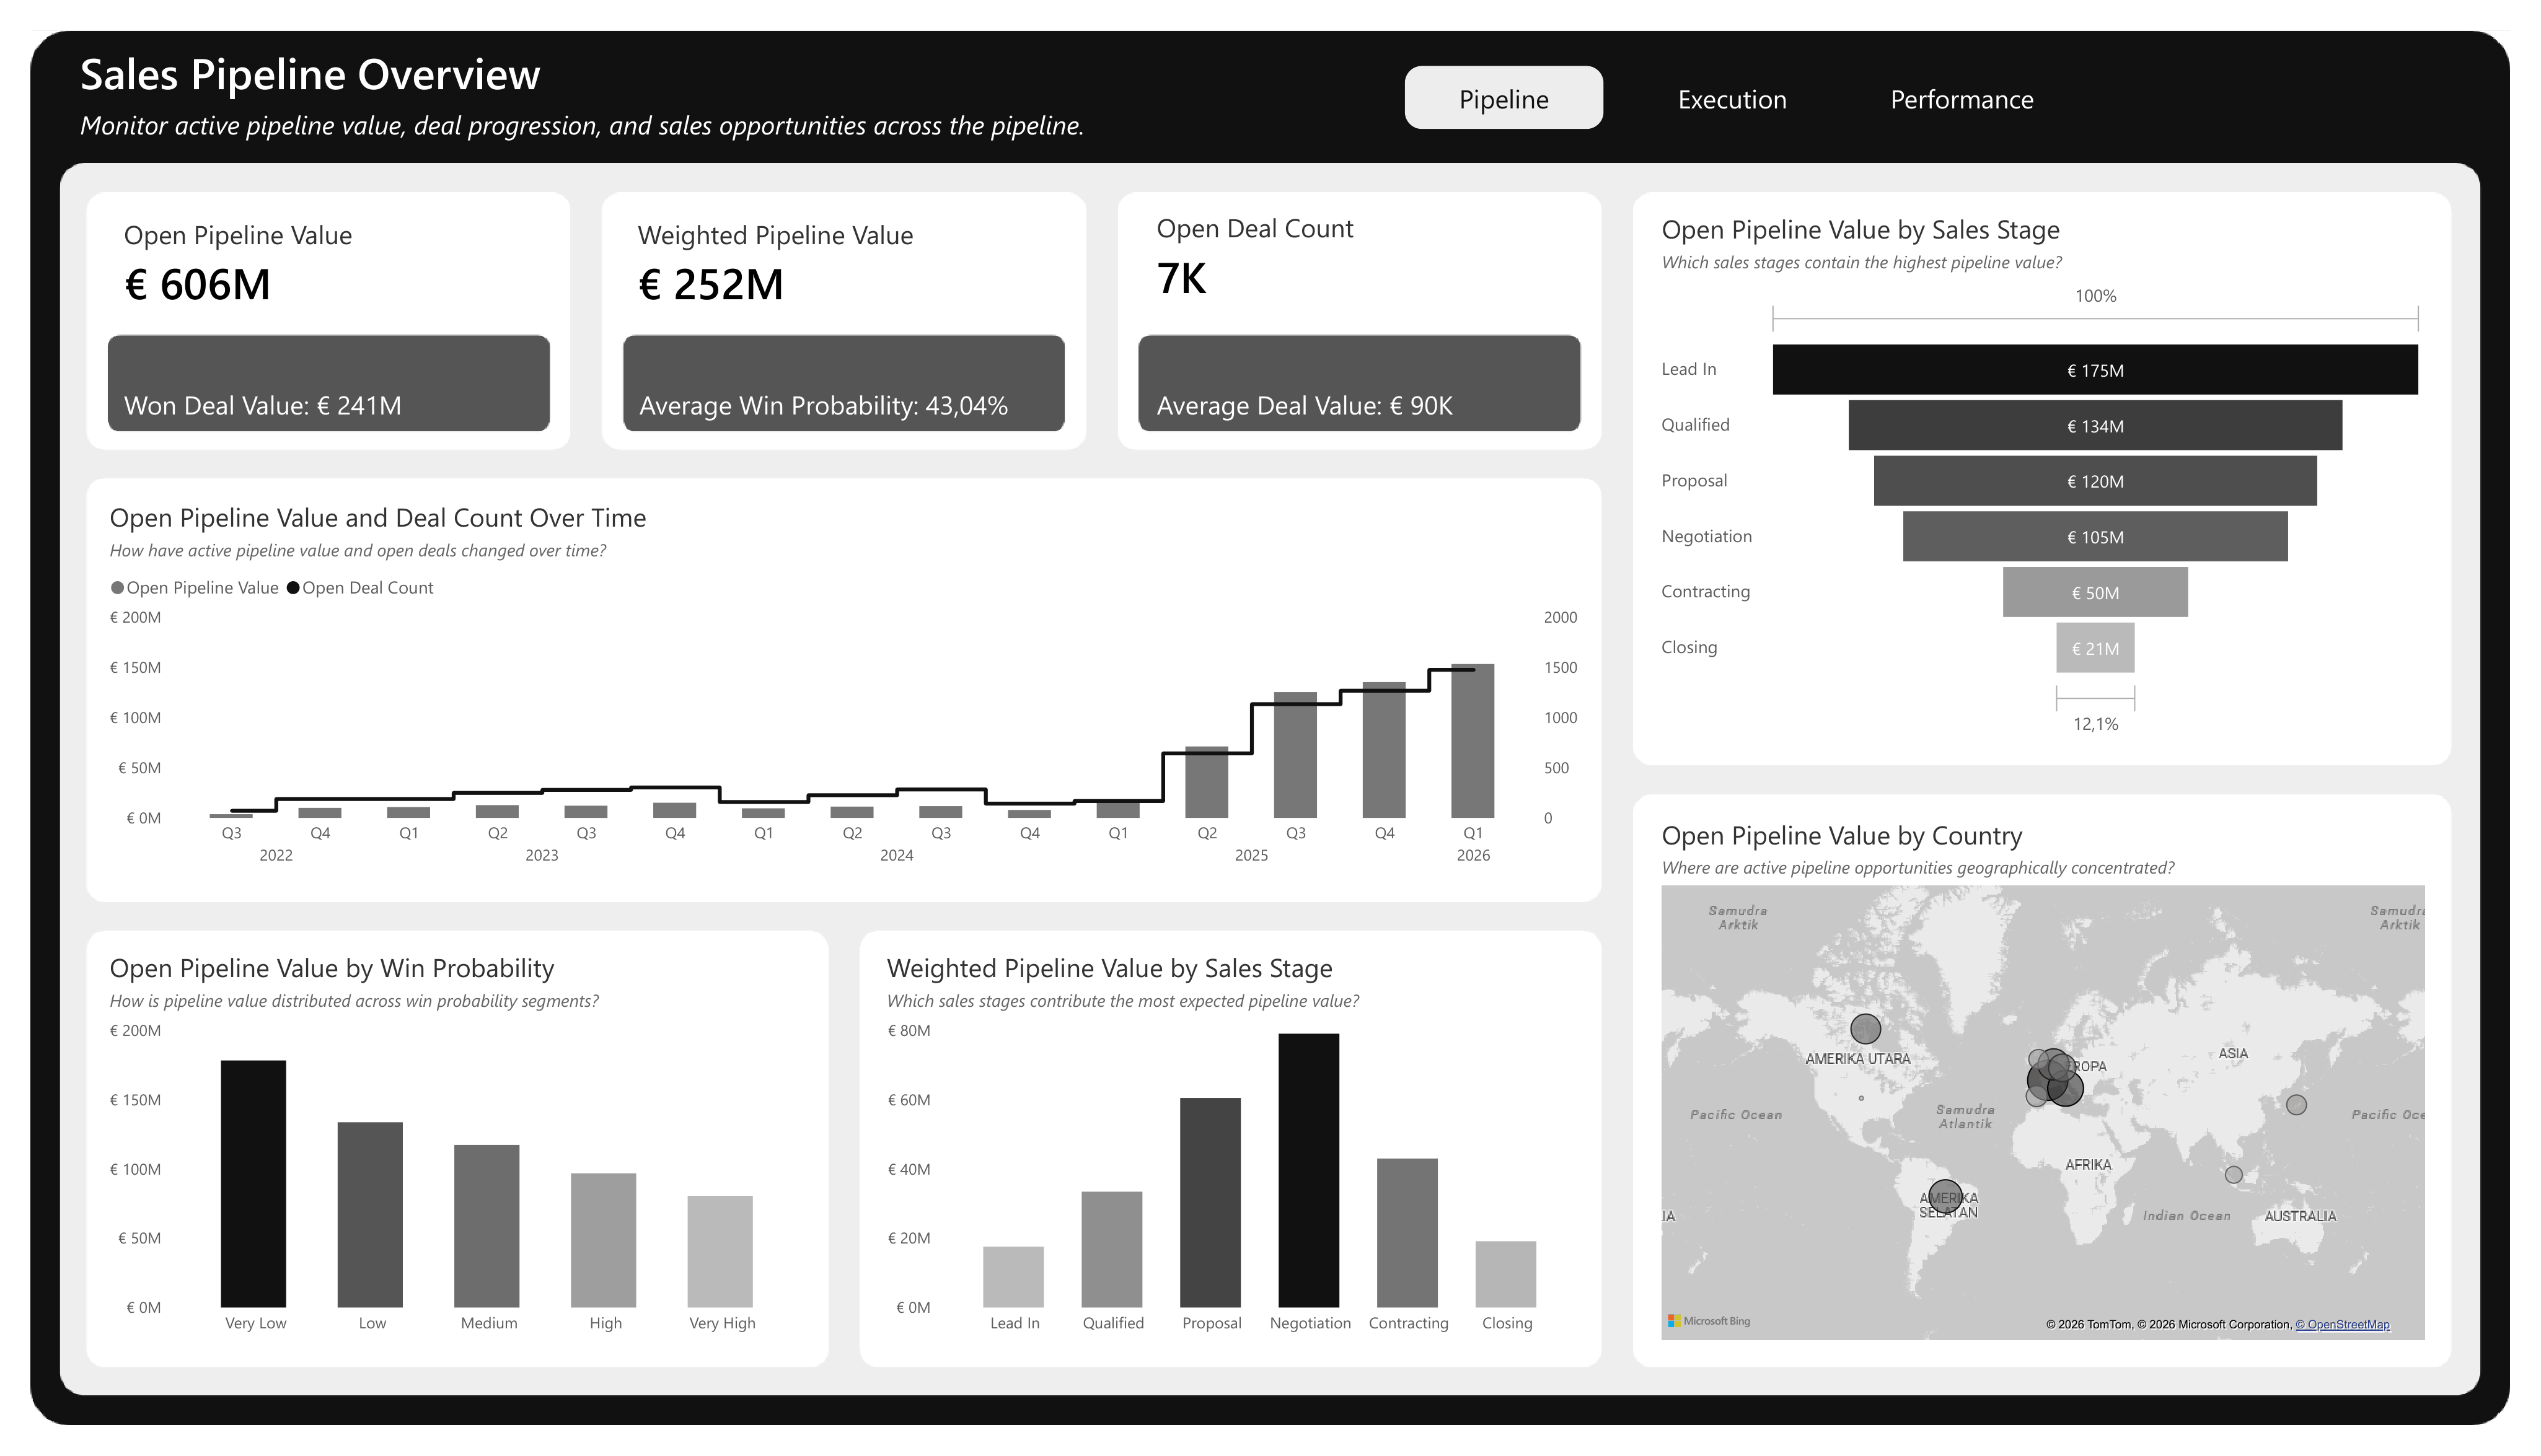

Layout of this report page (visuals, bound fields, positions):
{"tool":"powerbi","page":{"name":"Pipeline","canvas":[1920,1080],"ordinal":0},"visuals":[{"type":"cardVisual","fields":{"Data":[".Measures.Weighted Pipeline Value"]},"box":[441,115.1,376.6,181.5],"z":0},{"type":"cardVisual","fields":{"Data":[".Measures.Won Value Summary (Last Activity)"]},"box":[43.4,244.3,376.4,97.7],"z":1000},{"type":"cardVisual","fields":{"Data":[".Measures.Open Deal Count"]},"box":[842.6,111,378.5,182],"z":2000},{"type":"cardVisual","fields":{"Data":[".Measures.Open Pipeline Value (Last Activity)"]},"box":[42.9,115.1,376.6,181.5],"z":3000},{"type":"cardVisual","fields":{"Data":[".Measures.Avg Win Probability Summary (Last Activity)"]},"box":[441.6,244.3,376.4,97.7],"z":4000},{"type":"cardVisual","fields":{"Data":[".Measures.Avg Deal Value Summary (Last Activity)"]},"box":[843.3,244.3,378.2,97.7],"z":5000},{"type":"funnel","title":"Open Pipeline Value by Sales Stage","fields":{"Category":["FactDeals.StageName"],"Y":[".Measures.Open Pipeline Value (Last Activity)"]},"box":[1259.5,143,597.2,412.6],"z":6000},{"type":"clusteredColumnChart","title":"Weighted Pipeline Value by Sales Stage","fields":{"Category":["FactDeals.StageName"],"Y":[".Measures.Weighted Pipeline Value"]},"box":[658.2,710.8,545.3,308.4],"z":7000},{"type":"clusteredColumnChart","title":"Open Pipeline Value by Win Probability","fields":{"Category":["FactDeals.Win Probability Category"],"Y":[".Measures.Open Pipeline Value"]},"box":[56.4,710.8,547.2,308.4],"z":8000},{"type":"map","title":"Open Pipeline Value by Country","fields":{"Category":["DimCompany.Country"],"Size":[".Measures.Open Pipeline Value"]},"box":[1259.5,611.7,597.2,407.2],"z":9000},{"type":"lineClusteredColumnComboChart","title":"Open Pipeline Value and Deal Count Over Time","fields":{"Y":[".Measures.Open Pipeline Value (Last Activity)"],"Y2":[".Measures.Open Deal Count"],"Category":["DimDate.Year","DimDate.Quarter","DimDate.MonthName"]},"box":[56.1,361.9,1147.3,293.2],"z":10000},{"type":"textbox","title":"Sales Pipeline Overview","box":[32.6,9,774.5,77.8],"z":11000}]}

Visuals, with their boxes on the page's 1920x1080 design canvas (x1, y1, x2, y2). These are canvas units, not pixel positions in the 2541x1456 screenshot, which may show the page scaled, cropped or inside an application window:
cardVisual - .Measures.Weighted Pipeline Value: {"left": 441, "top": 115, "right": 818, "bottom": 297}
cardVisual - .Measures.Won Value Summary (Last Activity): {"left": 43, "top": 244, "right": 420, "bottom": 342}
cardVisual - .Measures.Open Deal Count: {"left": 843, "top": 111, "right": 1221, "bottom": 293}
cardVisual - .Measures.Open Pipeline Value (Last Activity): {"left": 43, "top": 115, "right": 420, "bottom": 297}
cardVisual - .Measures.Avg Win Probability Summary (Last Activity): {"left": 442, "top": 244, "right": 818, "bottom": 342}
cardVisual - .Measures.Avg Deal Value Summary (Last Activity): {"left": 843, "top": 244, "right": 1222, "bottom": 342}
"Open Pipeline Value by Sales Stage" funnel: {"left": 1260, "top": 143, "right": 1857, "bottom": 556}
"Weighted Pipeline Value by Sales Stage" clusteredColumnChart: {"left": 658, "top": 711, "right": 1204, "bottom": 1019}
"Open Pipeline Value by Win Probability" clusteredColumnChart: {"left": 56, "top": 711, "right": 604, "bottom": 1019}
"Open Pipeline Value by Country" map: {"left": 1260, "top": 612, "right": 1857, "bottom": 1019}
"Open Pipeline Value and Deal Count Over Time" lineClusteredColumnComboChart: {"left": 56, "top": 362, "right": 1203, "bottom": 655}
"Sales Pipeline Overview" textbox: {"left": 33, "top": 9, "right": 807, "bottom": 87}
